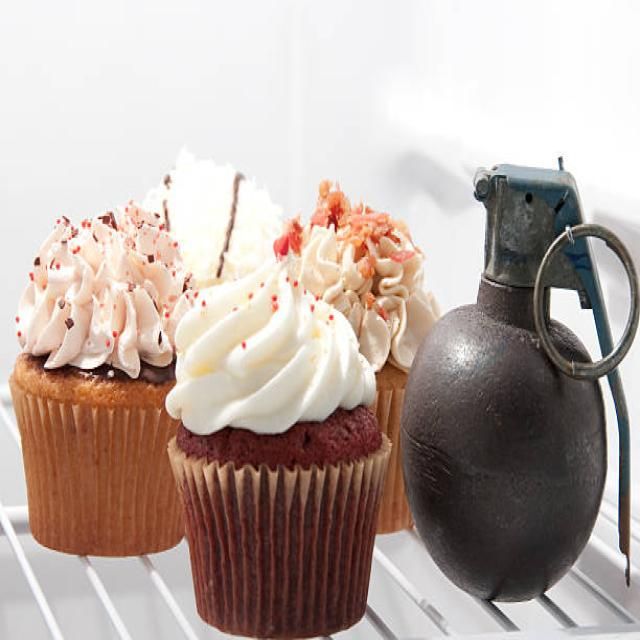grenade: (390, 151, 640, 609)
